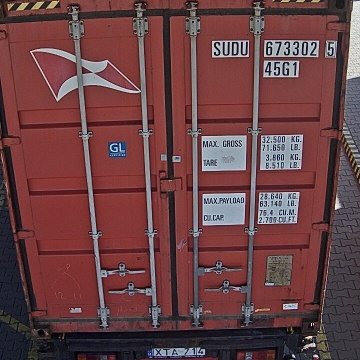serial_id: (213, 41, 336, 57)
